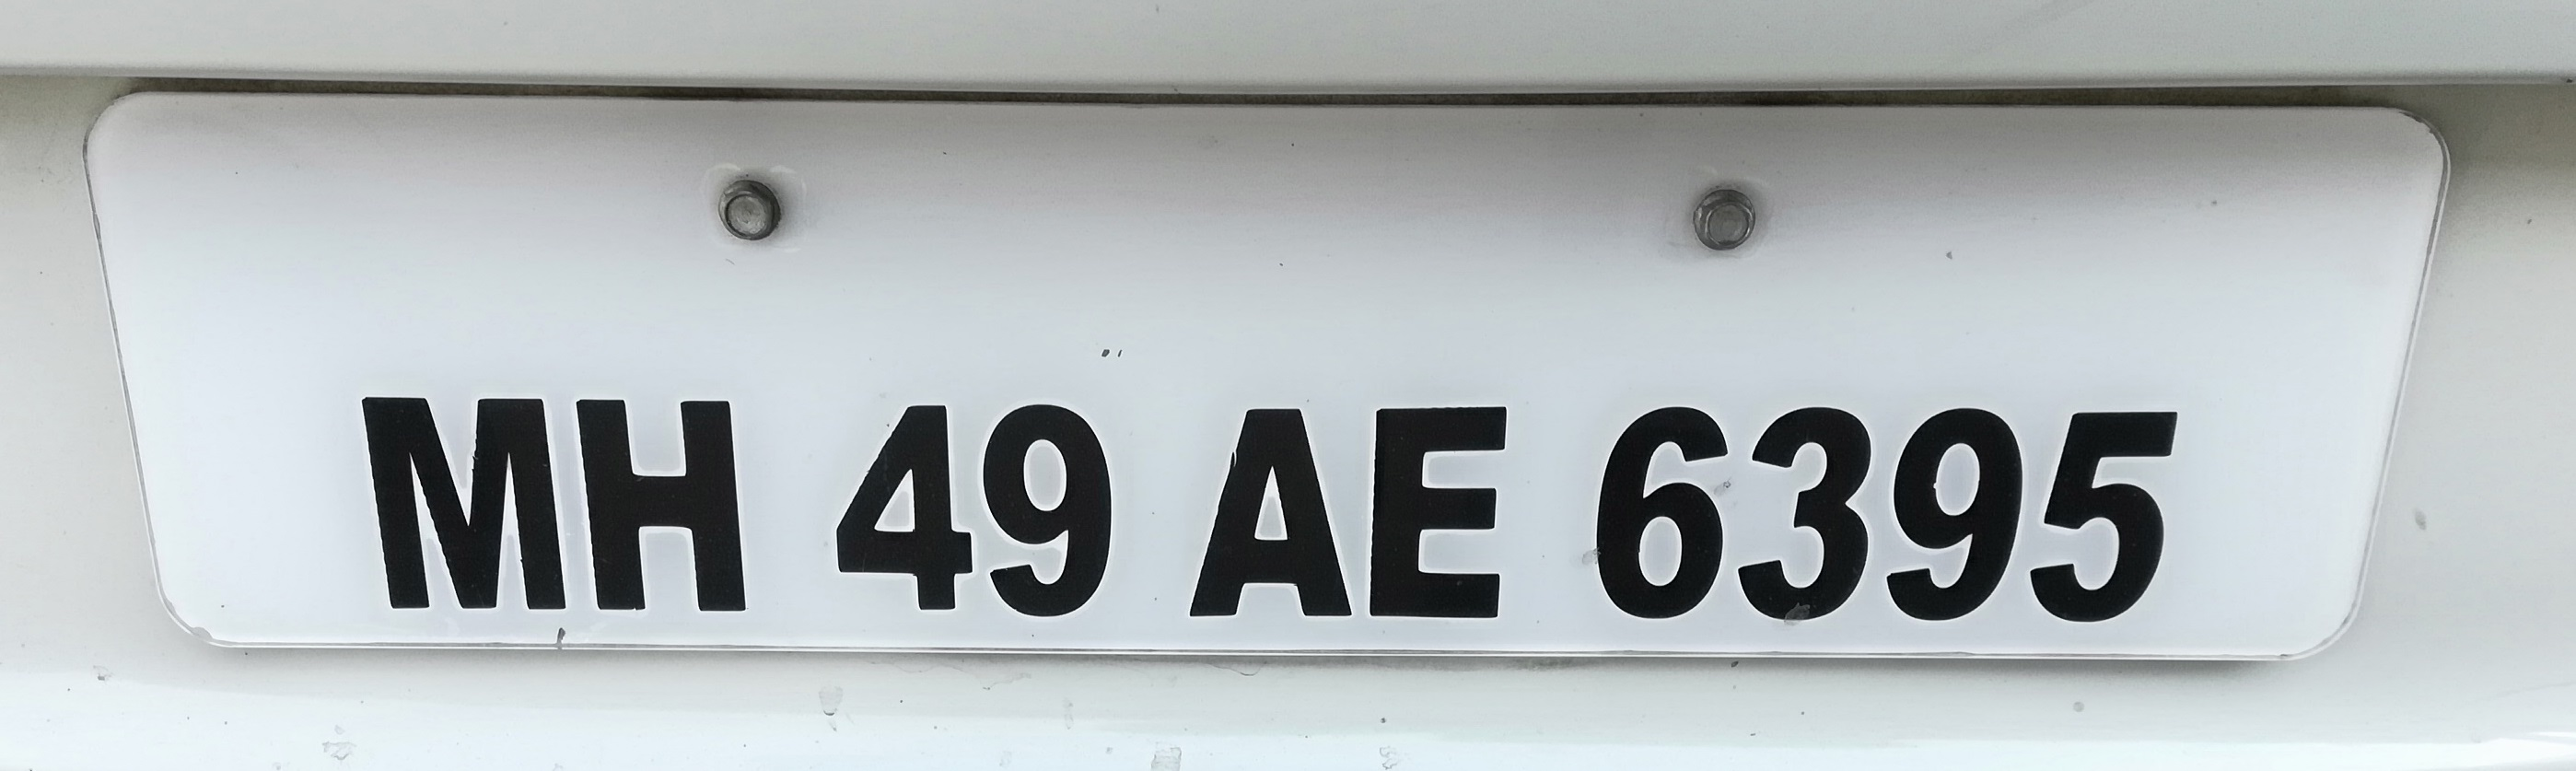numberplate: (64, 87, 2437, 661)
